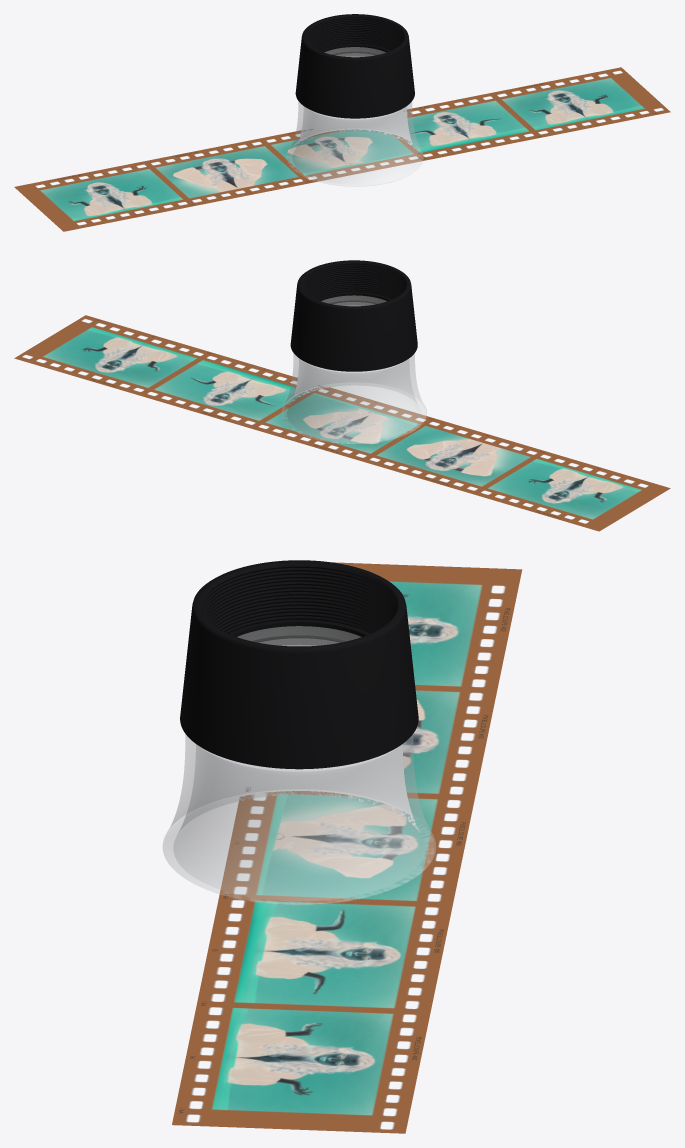
File: PhotoLoupe.glb
3 views of the same model, one above another, from view 1: azimuth 30°, elevation 25°; view 2: azimuth 150°, elevation 25°; view 3: azimuth 270°, elevation 25° (orthographic). The views are drawn at different scales.
Parts seen in each view (by area): view 1: FilmStrip, Loupe_Cap, Loupe_Base, Loupe_Lens; view 2: FilmStrip, Loupe_Cap, Loupe_Base, Loupe_Lens; view 3: FilmStrip, Loupe_Cap, Loupe_Base, Loupe_Lens.
Part boxes in pixels (x1,y1,x2,y2): FilmStrip: [14, 67, 670, 231]; Loupe_Cap: [295, 14, 414, 118]; Loupe_Base: [287, 56, 423, 186]; Loupe_Lens: [325, 47, 385, 56]; FilmStrip: [14, 315, 670, 531]; Loupe_Cap: [290, 260, 417, 371]; Loupe_Base: [281, 305, 426, 443]; Loupe_Lens: [321, 295, 386, 305]; FilmStrip: [172, 562, 522, 1133]; Loupe_Cap: [180, 560, 418, 769]; Loupe_Base: [163, 645, 435, 904]; Loupe_Lens: [238, 626, 360, 645].
Size of the model in its own units: 0.2023 by 0.0401 by 0.0537.
Materials: 5 (1 with a texture image).
